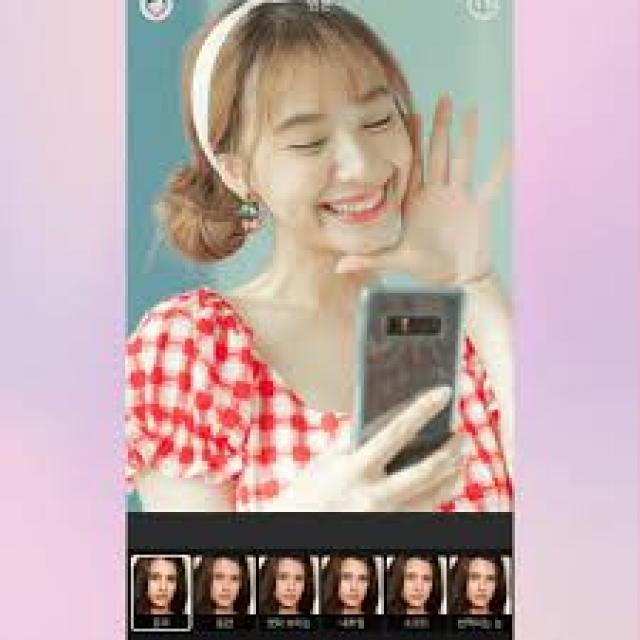Phone: (354, 286, 468, 469)
